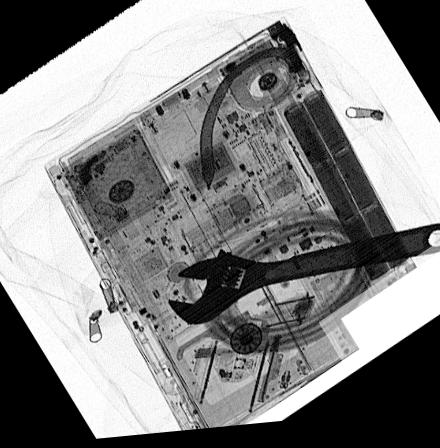Wrench: (163, 230, 440, 330)
